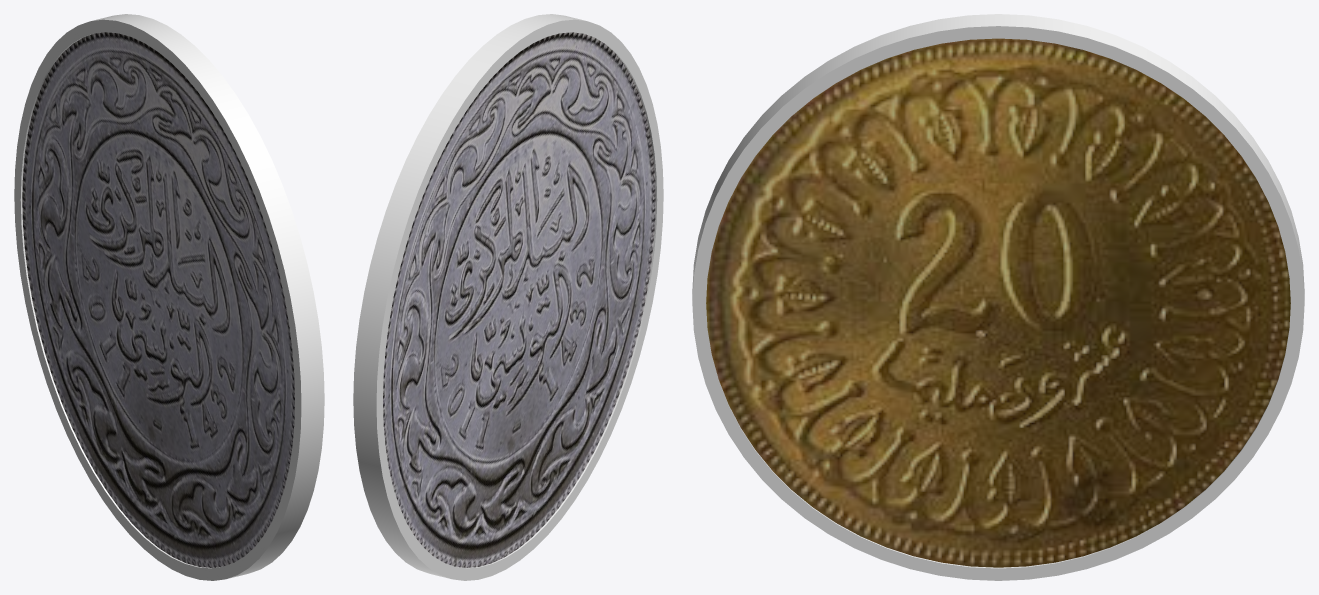
3 renders of one model, left to right at view 1: azimuth 30°, elevation 25°; view 2: azimuth 150°, elevation 25°; view 3: azimuth 270°, elevation 25°, orthographic. The views are drawn at different scales.
Visible parts, largest first — view 1: Cylinder; view 2: Cylinder; view 3: Cylinder.
Boxes of the visible parts, x1=… form: Cylinder: x1=14, y1=14, x2=324, y2=580; Cylinder: x1=353, y1=14, x2=663, y2=580; Cylinder: x1=692, y1=14, x2=1304, y2=580.
Bounding box in the file's own units: 0.0646 × 1.39 × 1.39.
Materials: 3 (2 with a texture image).
